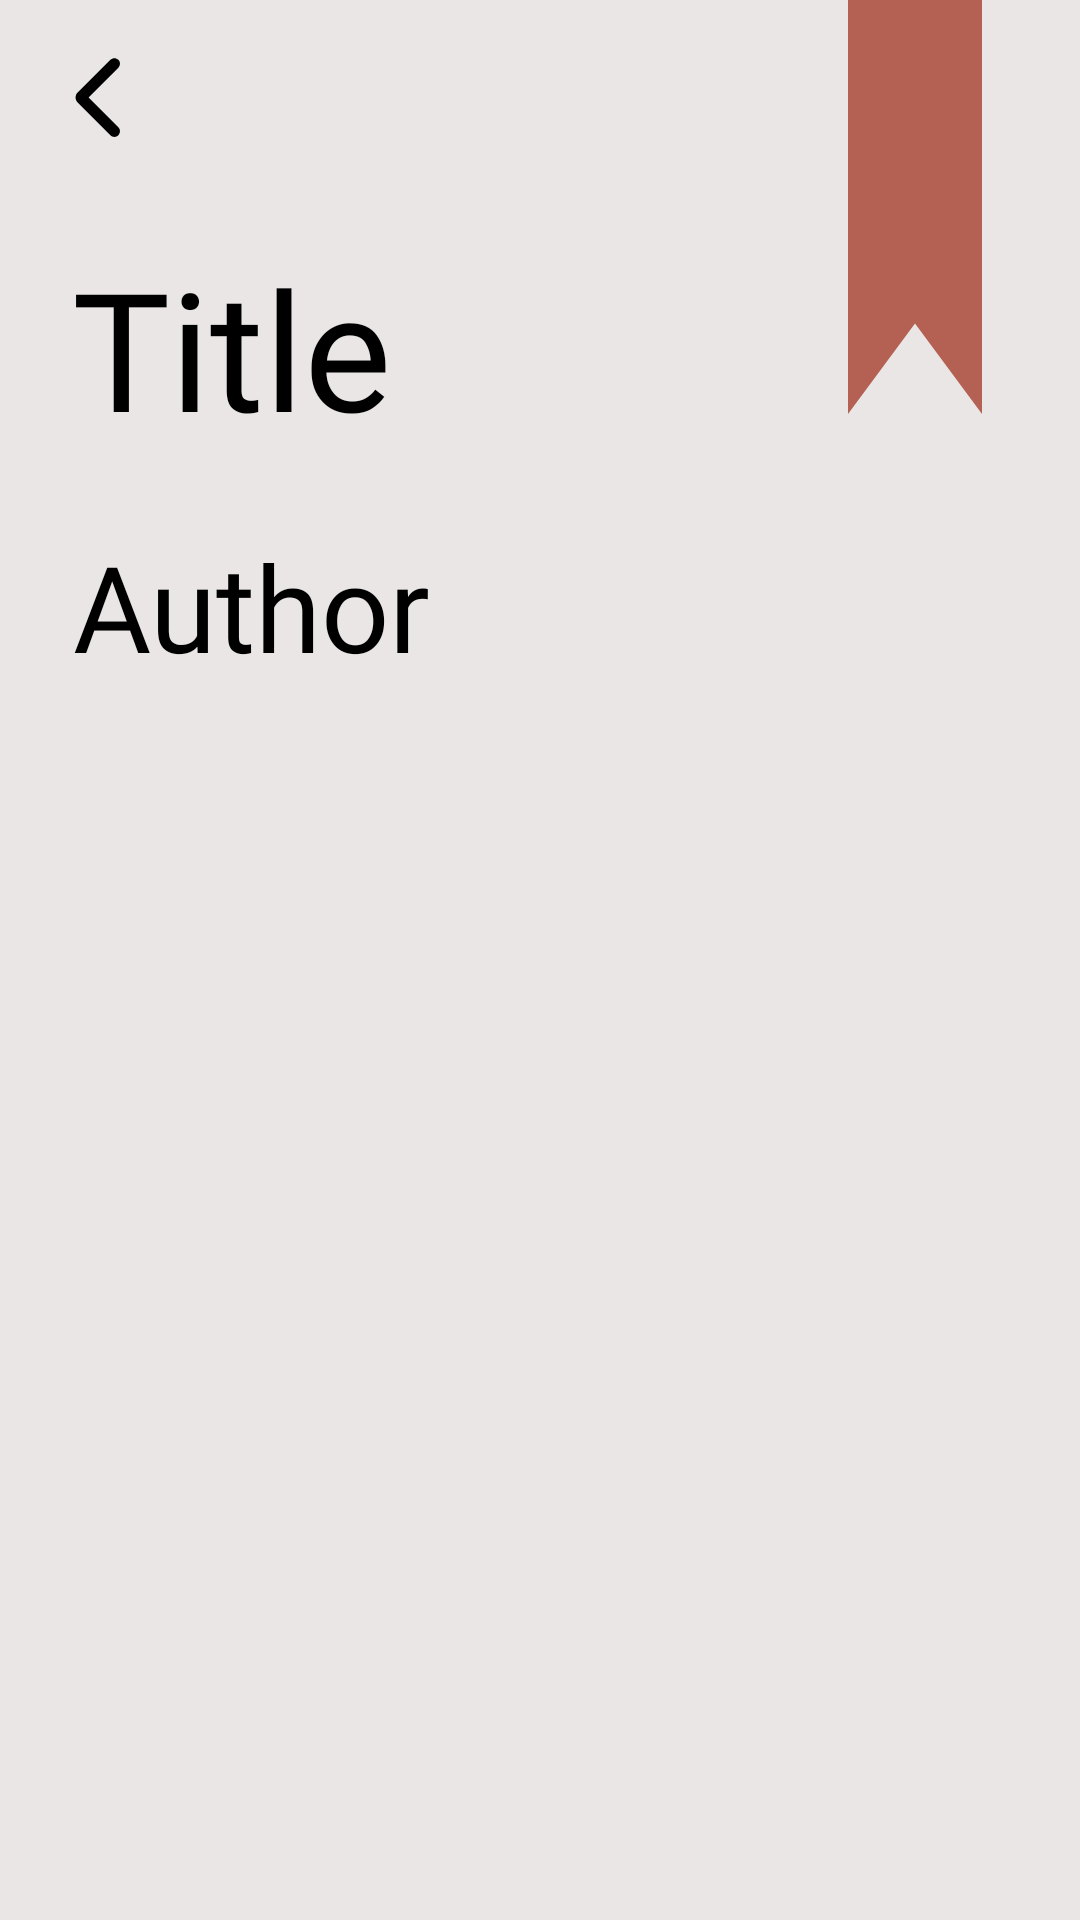

Where to tap for icons on this 1080px×1920px app screen, as (x=x, y=y):
return: (x=97, y=97)
